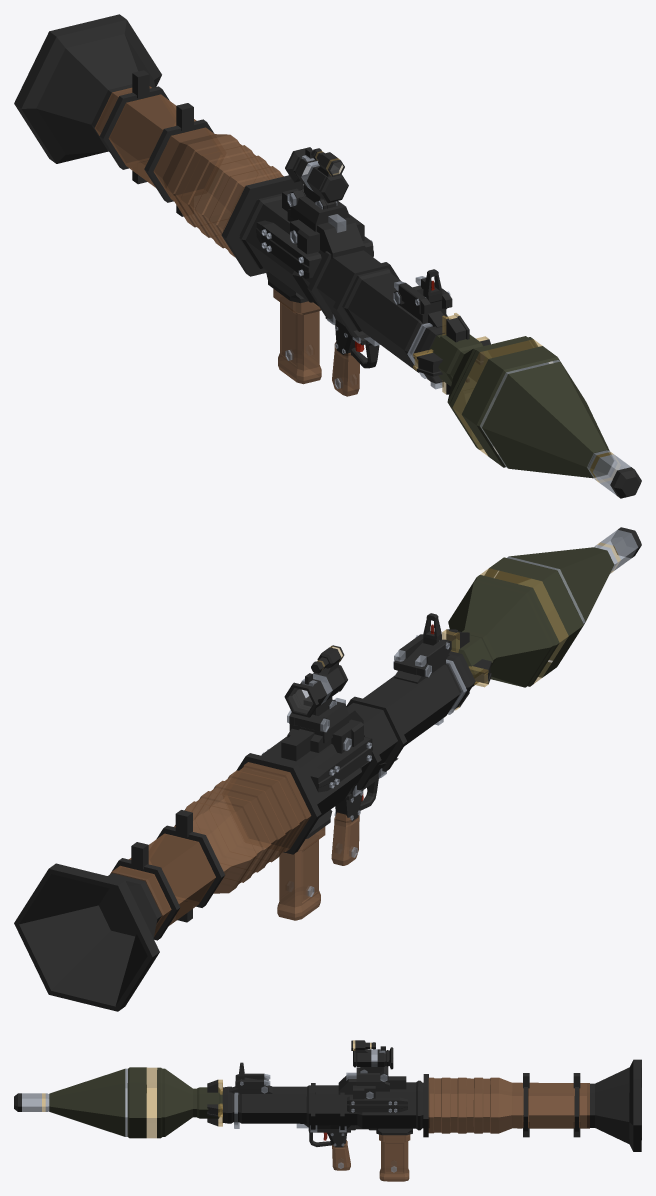
Rendered from RocketLoaded.fbx.
The picture shows the model from 3 angles, top to bottom: view 1: azimuth 30°, elevation 25°; view 2: azimuth 150°, elevation 25°; view 3: azimuth 270°, elevation 25°; orthographic projection. The views are drawn at different scales.
Parts seen in each view (by area): view 1: Cylinder, Cylinder.027; view 2: Cylinder, Cylinder.027; view 3: Cylinder, Cylinder.027.
Boxes of the visible parts, box(x1,y1,x2,y2) form: Cylinder: box(14, 14, 452, 396); Cylinder.027: box(413, 313, 641, 498); Cylinder: box(14, 613, 475, 1011); Cylinder.027: box(442, 527, 641, 710); Cylinder: box(222, 1040, 641, 1181); Cylinder.027: box(14, 1067, 222, 1138).
Size of the model in its own units: 70.09 by 114 by 475.
